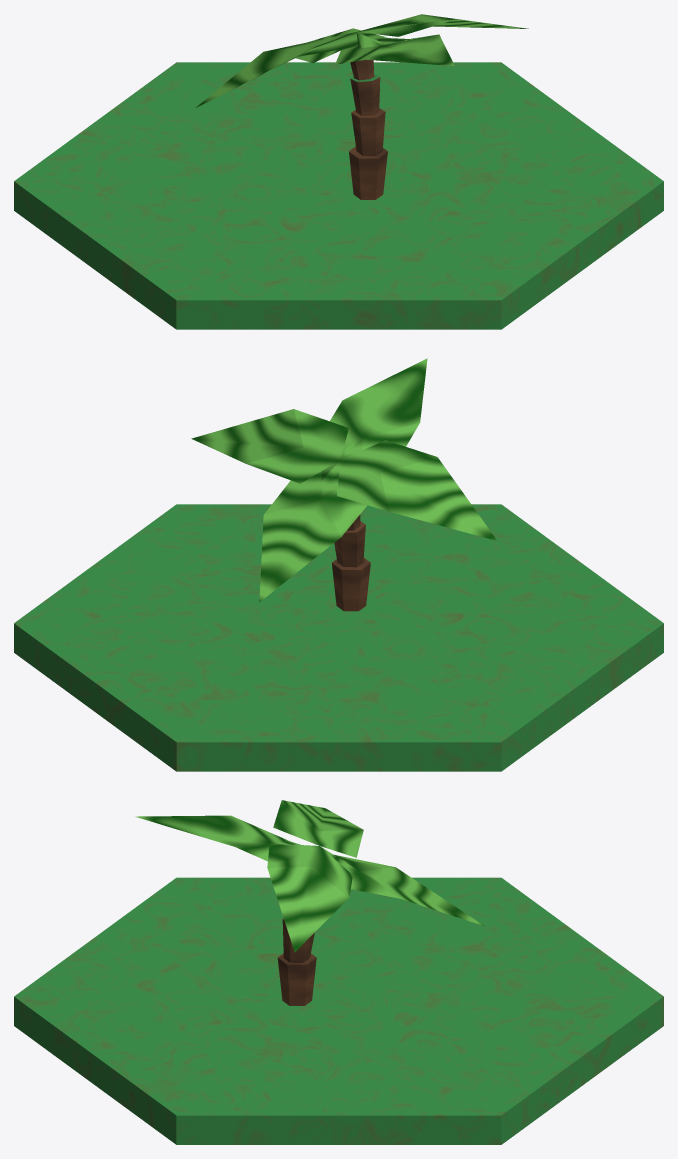
The model's file is Jungle.glb.
3 views of the same model, one above another, from view 1: azimuth 30°, elevation 25°; view 2: azimuth 150°, elevation 25°; view 3: azimuth 270°, elevation 25° (orthographic).
Visible parts, largest first — view 1: 09 Jungle; view 2: 09 Jungle; view 3: 09 Jungle.
Boxes of the visible parts, box(x1,y1,x2,y2) form: 09 Jungle: box(14, 14, 663, 329); 09 Jungle: box(14, 358, 663, 771); 09 Jungle: box(14, 800, 663, 1144).
Bounding box in the file's own units: 1.73 × 0.734 × 2.
Materials: 2 (2 with a texture image).
